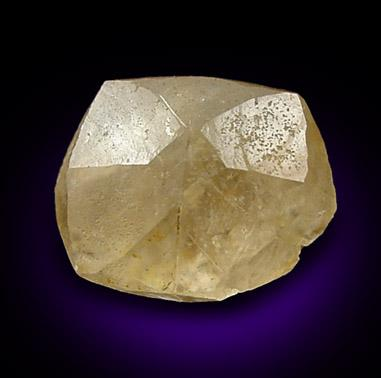calcite: (57, 77, 337, 302)
